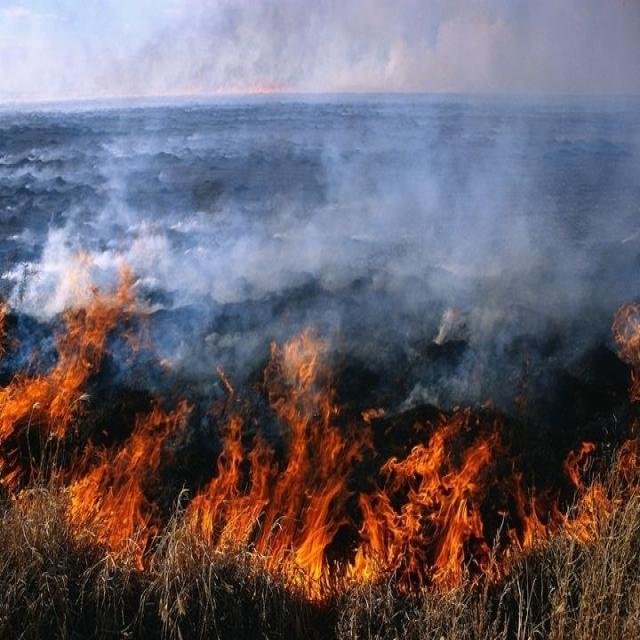Fire: (0, 250, 640, 608)
Smoke: (8, 0, 640, 313)
